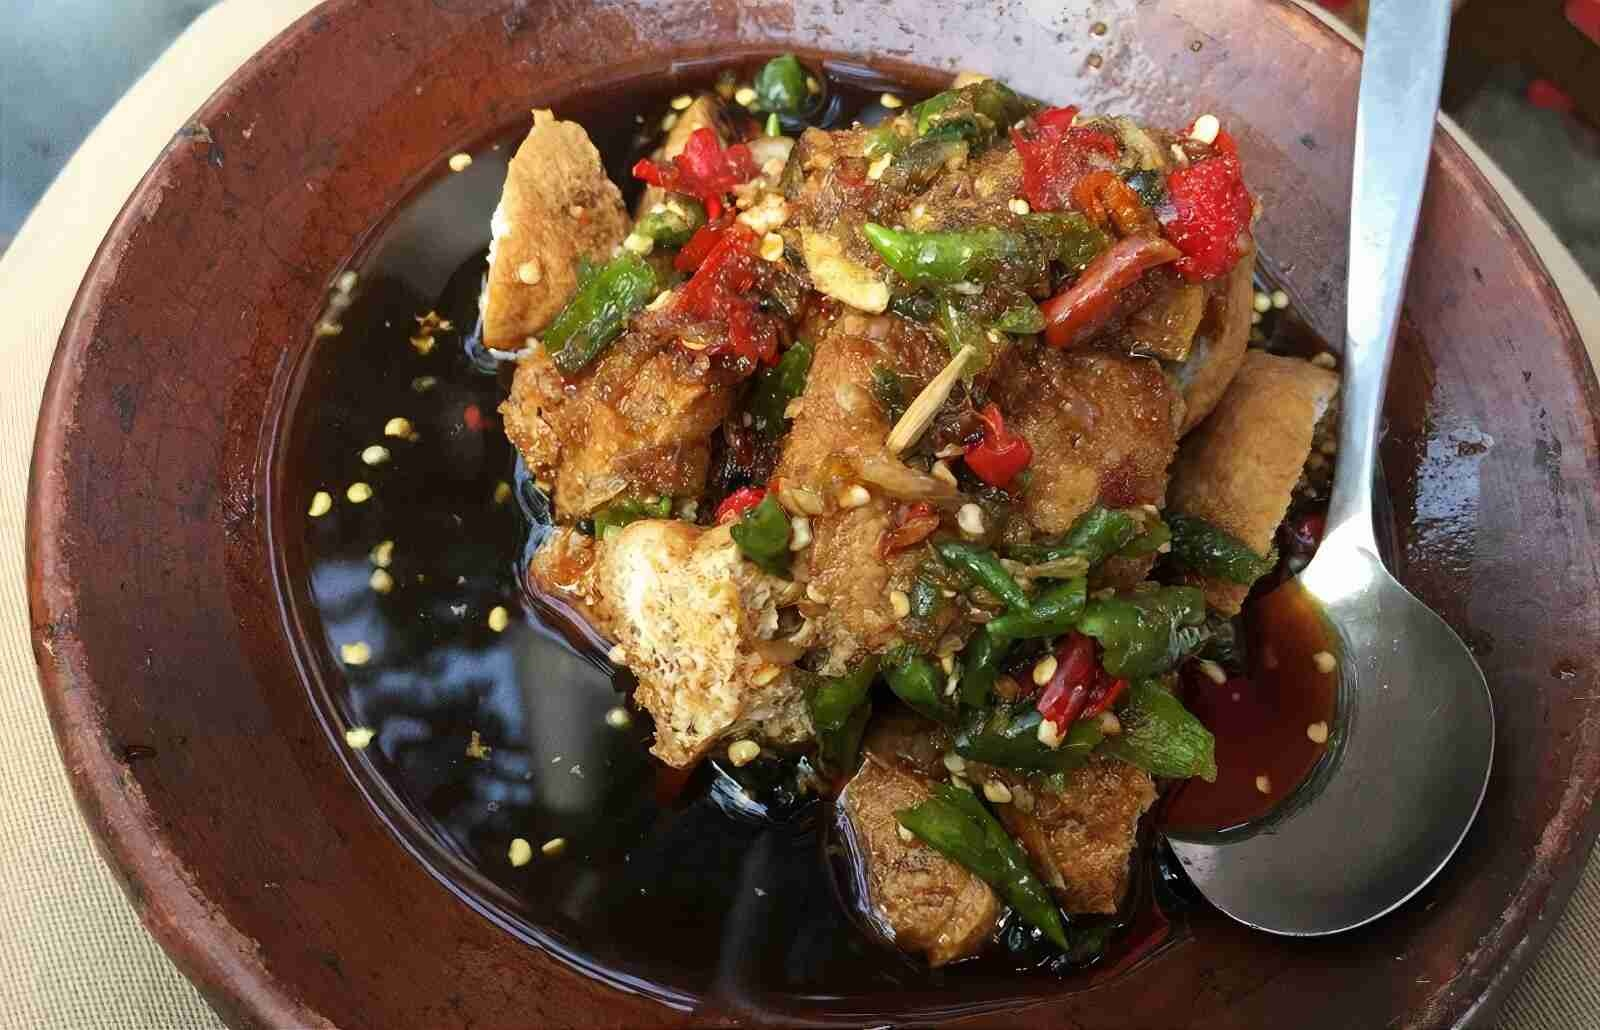tahu_gejrot: (273, 59, 1373, 1010)
